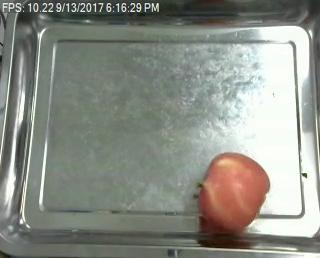apple: (199, 152, 271, 233)
